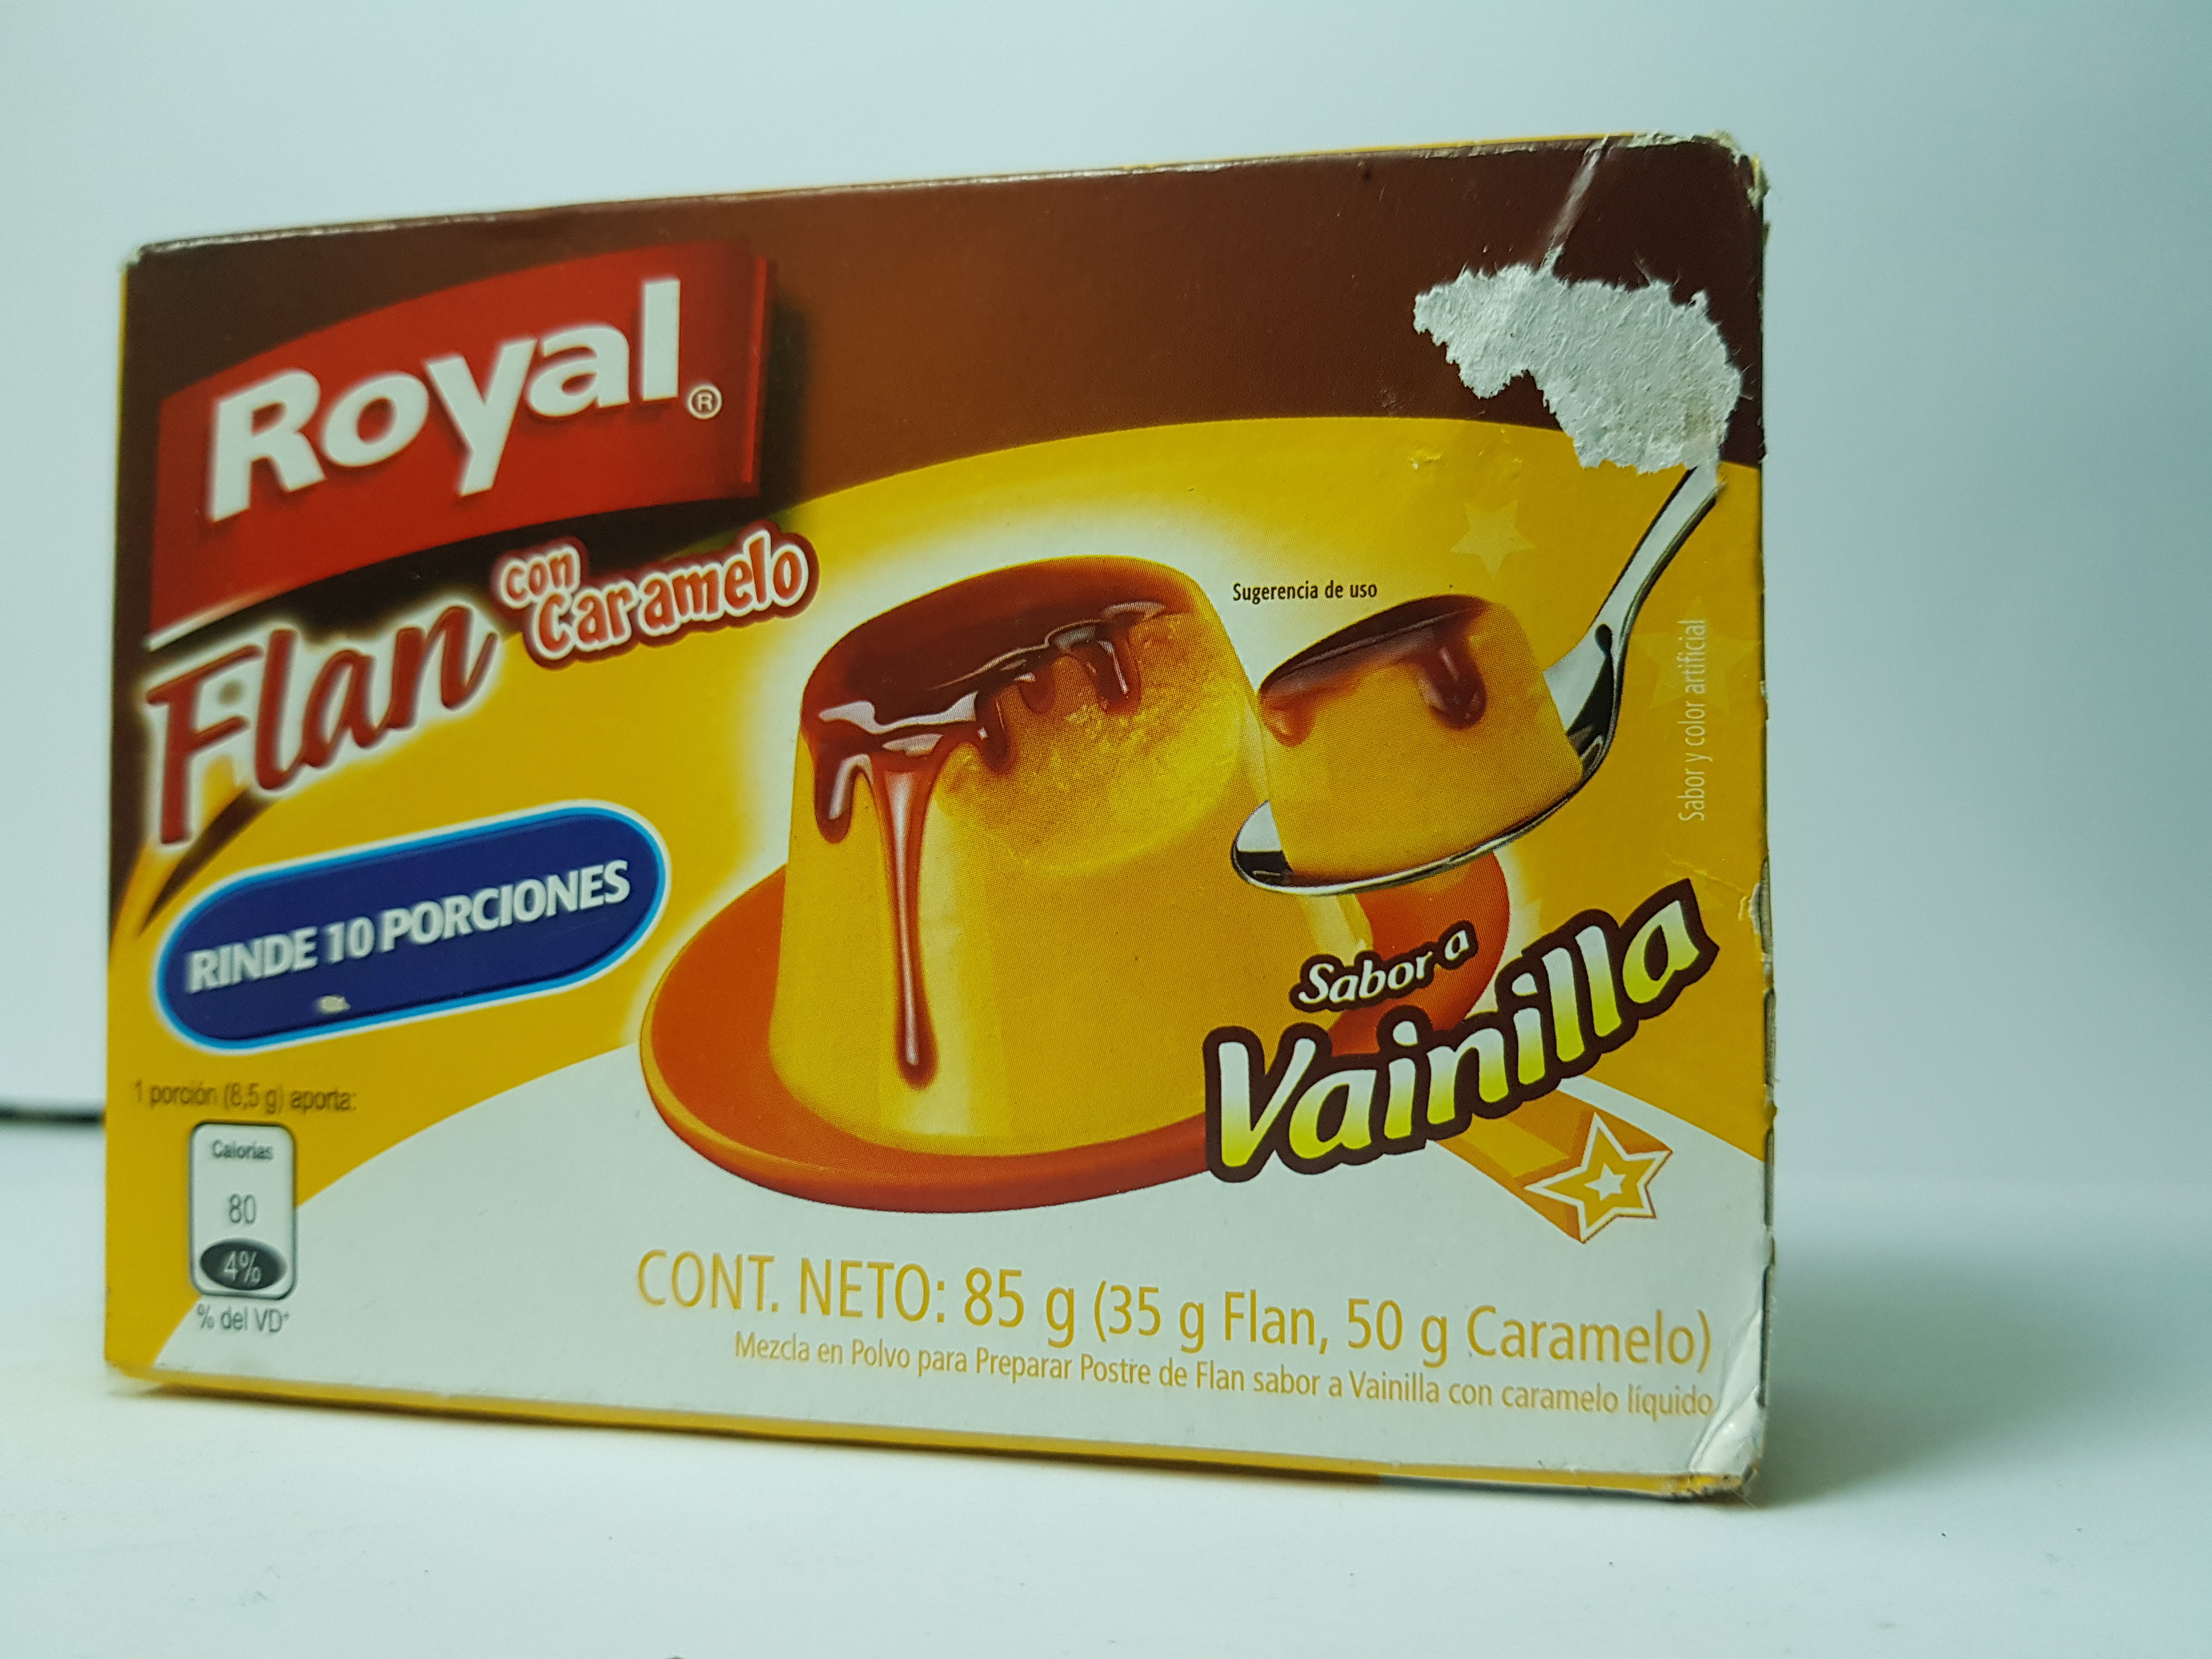flan: (92, 112, 1829, 1534)
